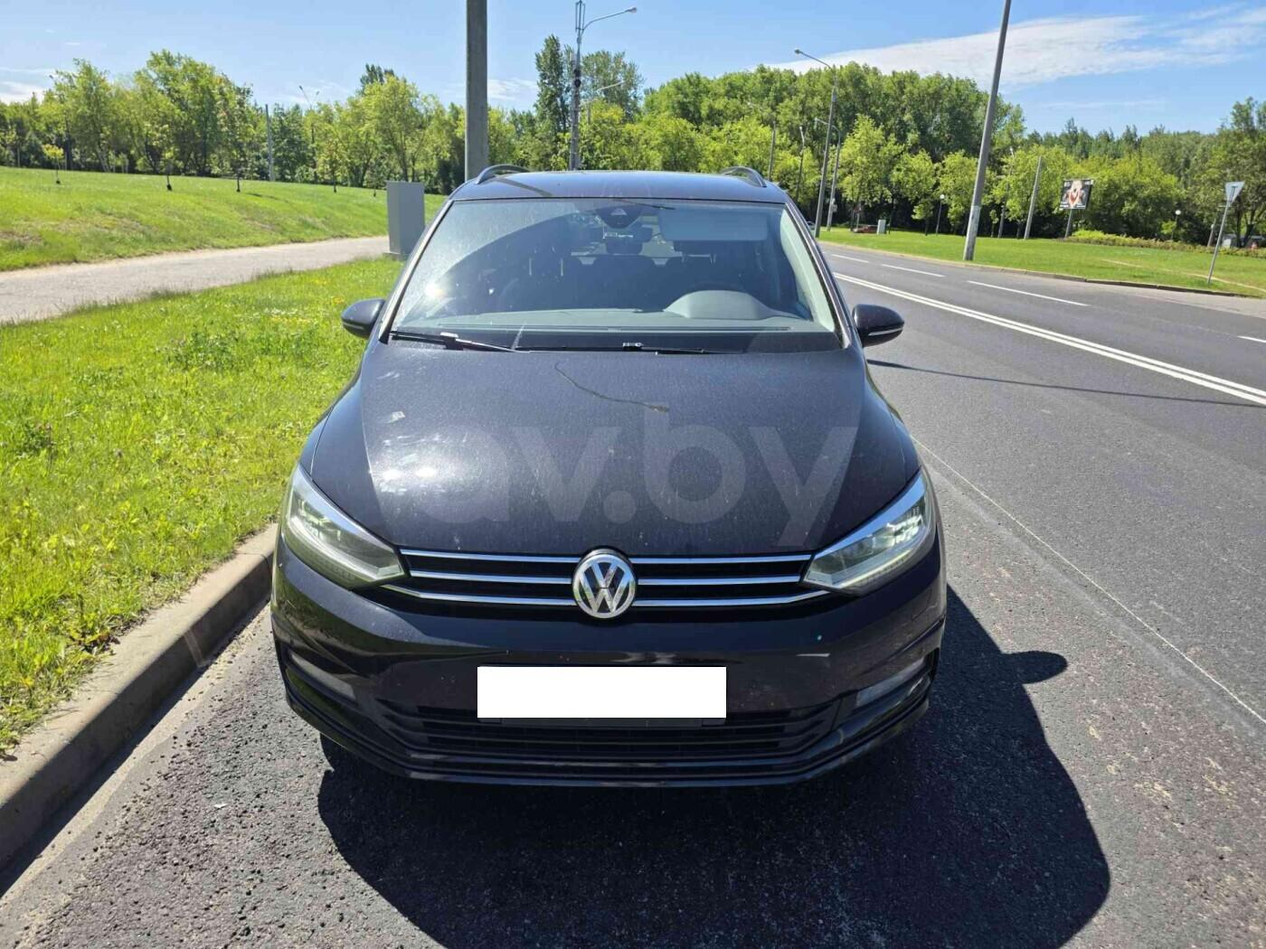Touran_2015: (270, 159, 952, 795)
